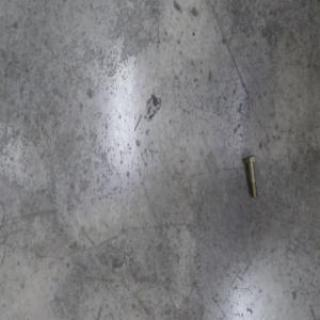Bolttrack_idkeyframe: (243, 152, 258, 198)
